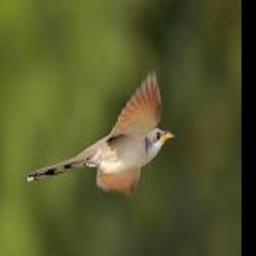Cuckoo: (27, 71, 175, 191)
